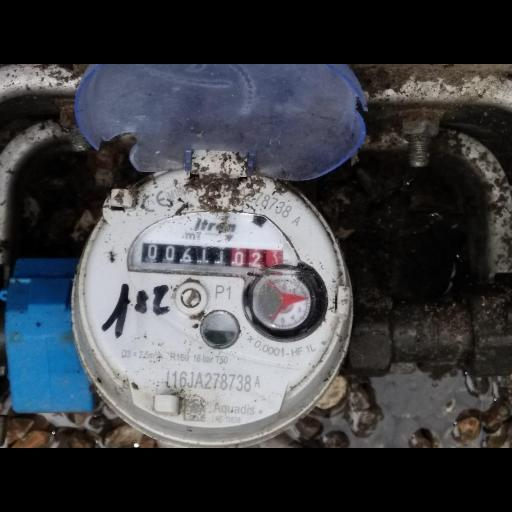0: (162, 243, 178, 263), (231, 247, 247, 267), (146, 242, 161, 263)
1: (197, 246, 212, 266), (214, 247, 229, 267)
2: (248, 249, 264, 269)
3: (266, 250, 283, 269)
6: (179, 245, 195, 265)
border_water_meter_number: (141, 238, 284, 271)
